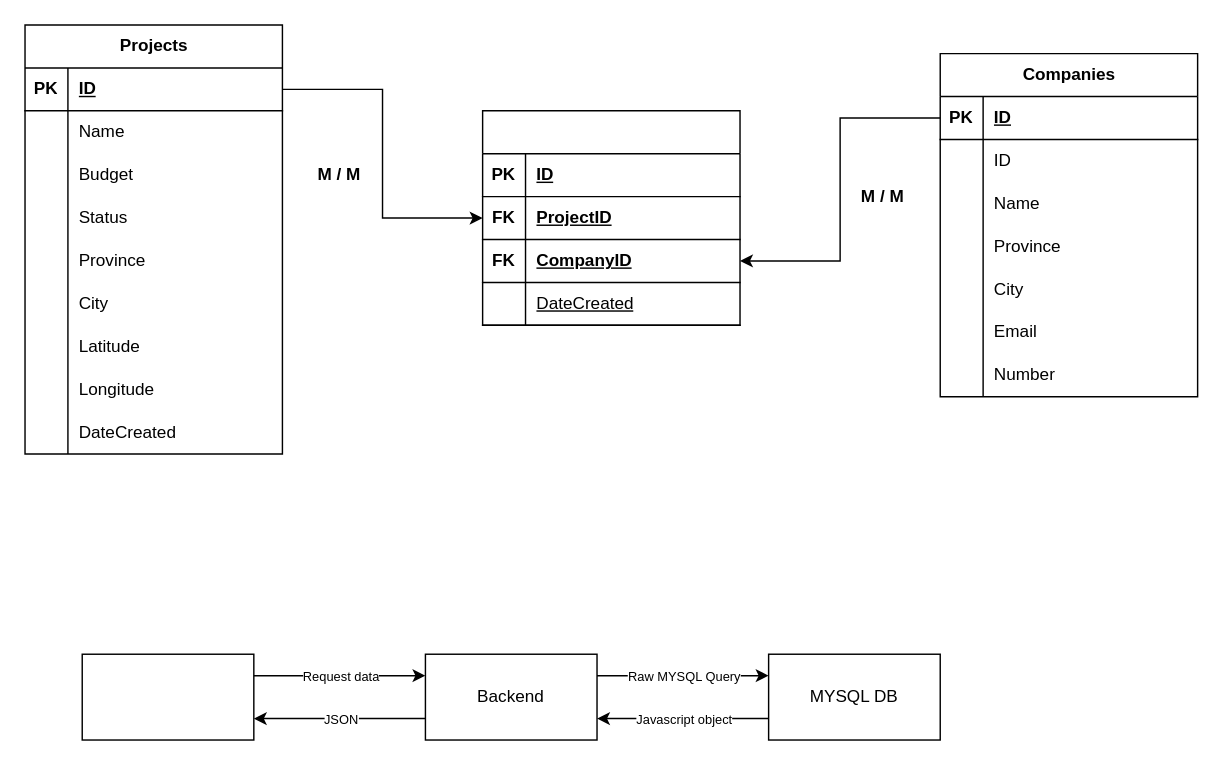
Some shapes in this 1223 by 765 pixel diagram are drawn without their labels. Each missing label, with the box of its shape:
Assignments: (481, 109, 740, 325)
Frontend: (81, 653, 254, 740)
